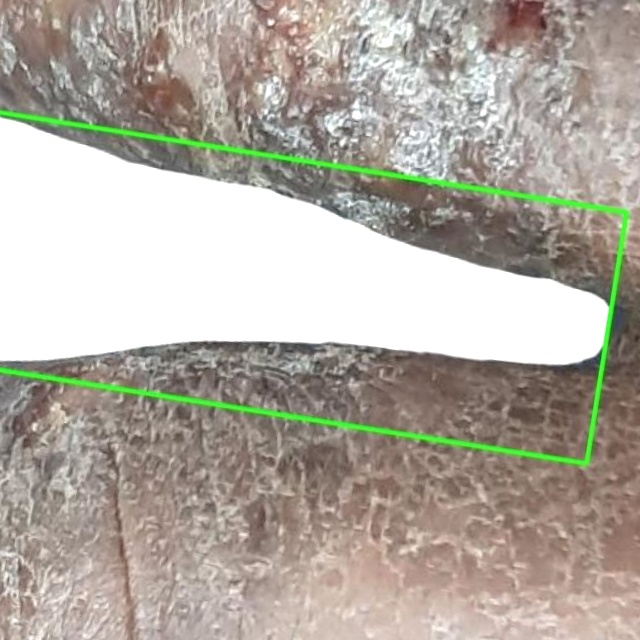Eczema: (0, 112, 626, 463)
